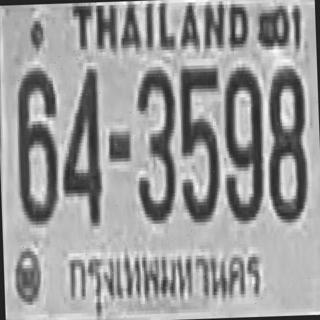N03: (133, 66, 177, 221)
N04: (57, 64, 101, 222)
N05: (177, 65, 221, 219)
N06: (13, 64, 58, 222)
N08: (264, 65, 307, 220)
N09: (221, 63, 263, 221)
P04: (58, 230, 266, 320)
